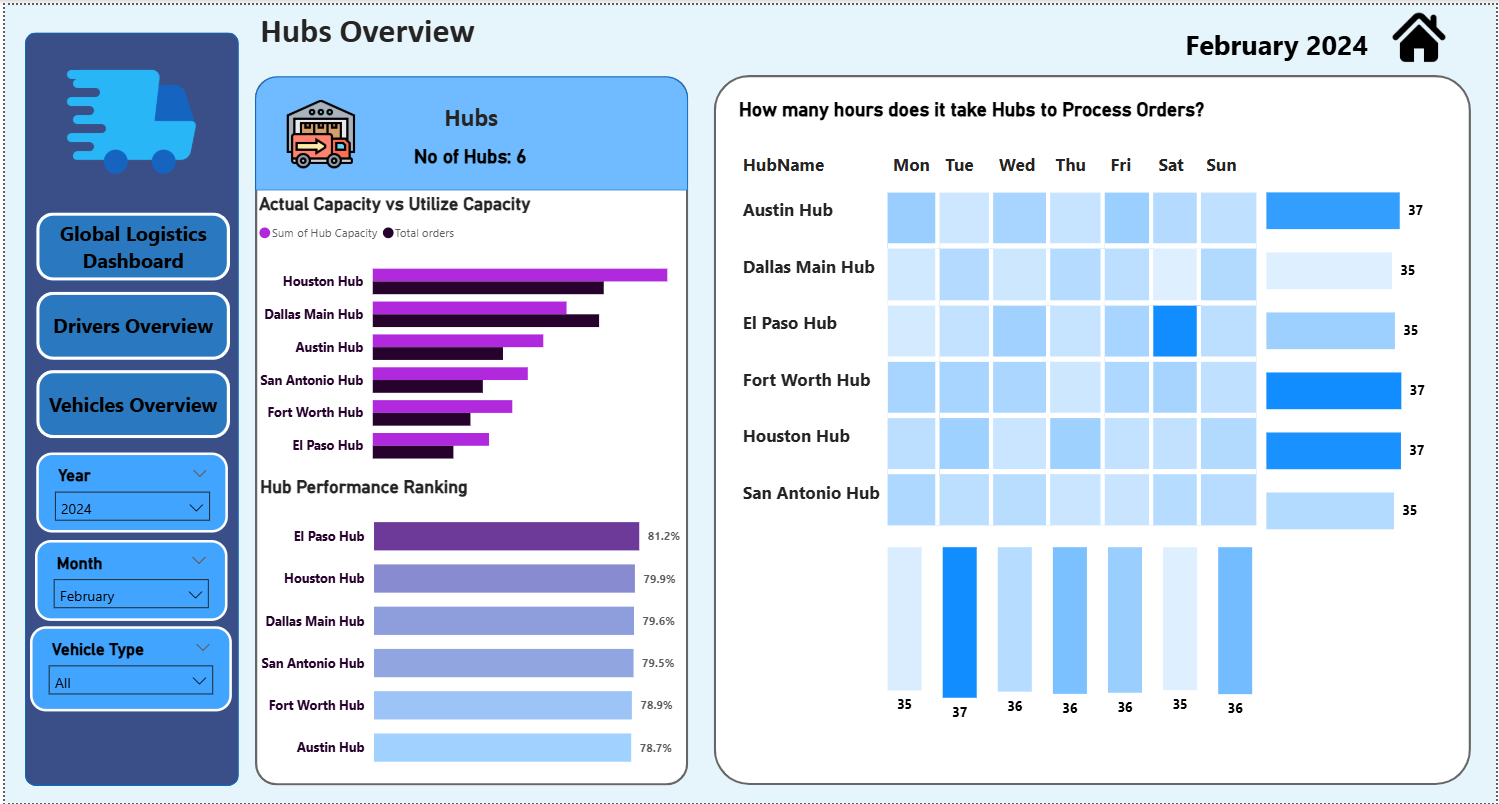

The dashboard page shown, as its layout file describes it:
{"tool":"powerbi","page":{"name":"Hubs Overview","canvas":[1400,750],"ordinal":1},"visuals":[{"type":"shape","box":[19.1,26,200.8,707.7],"z":0},{"type":"textbox","box":[235.2,0,224.4,59.5],"z":1000},{"type":"slicer","fields":{"Values":["Date Table.Year"]},"box":[29.7,420,180.3,75.1],"z":2000},{"type":"slicer","fields":{"Values":["Date Table.Month"]},"box":[28.2,502.4,180.8,76.1],"z":3000},{"type":"shape","box":[234.2,67.4,406.9,666],"z":4000},{"type":"shape","box":[234.2,67.4,406.9,107.6],"z":5000},{"type":"textbox","box":[351.2,85.5,173.6,42.8],"z":6000},{"type":"card","fields":{"Values":["Hubs.No of Hubs"]},"box":[314.9,128.3,244.9,28.5],"z":7000},{"type":"barChart","title":"Hub Performance Ranking","fields":{"Category":["Hubs.HubName"],"Y":["Orders.On TimeDelivery Rate"]},"box":[234.5,443.2,406.9,290.3],"z":8000},{"type":"image","box":[256.6,82.9,79,76.5],"z":9000},{"type":"image","box":[20.5,35.5,198.1,144.8],"z":10000},{"type":"card","fields":{"Values":["Orders.YearMonth Title"]},"box":[1044.4,7.8,299.3,59.6],"z":11000},{"type":"image","box":[1298.4,0,59.6,60.9],"z":12000},{"type":"shape","box":[666,65.8,711.2,666.9],"z":13000},{"type":"pivotTable","fields":{"Rows":["Hubs.HubName"],"Columns":["Date Table.Day"],"Values":["Orders.Avg Delivery Time"]},"box":[681.2,128.4,560.9,386.6],"z":14000},{"type":"clusteredColumnChart","fields":{"Category":["Date Table.Day"],"Y":["Orders.Avg Delivery Time"]},"box":[824.5,496,354.1,183.8],"z":15000},{"type":"clusteredBarChart","fields":{"Y":["Orders.Avg Delivery Time"],"Category":["Hubs.HubName"]},"box":[1179.7,163.5,220.3,336.6],"z":16000},{"type":"clusteredBarChart","title":"Actual Capacity vs Utilize Capacity","fields":{"Category":["Hubs.HubName"],"Y":["Sum(Hubs.Hub Capacity)","Orders.Total orders"]},"box":[233.8,175.7,408.2,267.6],"z":17000},{"type":"slicer","fields":{"Values":["Vehicles.Vehicle Model"]},"box":[24,583.4,189.2,79.7],"z":18000},{"type":"card","fields":{"Values":["Hubs.Hub Title"]},"box":[651.5,75.7,513.6,46],"z":19000},{"type":"pageNavigator","box":[29,195.2,182.3,213],"z":20000}]}

Visuals, with their boxes in screenshot pixels (x1, y1, x2, y2), scaled from the page's 1400x750 canvas onto the 1499x804 screenshot:
shape: 20,28,235,787
textbox: 252,0,492,64
slicer - Date Table.Year: 32,450,225,531
slicer - Date Table.Month: 30,539,224,620
shape: 251,72,686,786
shape: 251,72,686,188
textbox: 376,92,562,138
card - Hubs.No of Hubs: 337,138,599,168
"Hub Performance Ranking" barChart: 251,475,687,786
image: 275,89,359,171
image: 22,38,234,193
card - Orders.YearMonth Title: 1118,8,1439,72
image: 1390,0,1454,65
shape: 713,71,1475,785
pivotTable - Hubs.HubName x Date Table.Day: 729,138,1330,552
clusteredColumnChart - Date Table.Day x Orders.Avg Delivery Time: 883,532,1262,729
clusteredBarChart - Orders.Avg Delivery Time x Hubs.HubName: 1263,175,1498,536
"Actual Capacity vs Utilize Capacity" clusteredBarChart: 250,188,687,475
slicer - Vehicles.Vehicle Model: 26,625,228,711
card - Hubs.Hub Title: 698,81,1247,130
pageNavigator: 31,209,226,438
